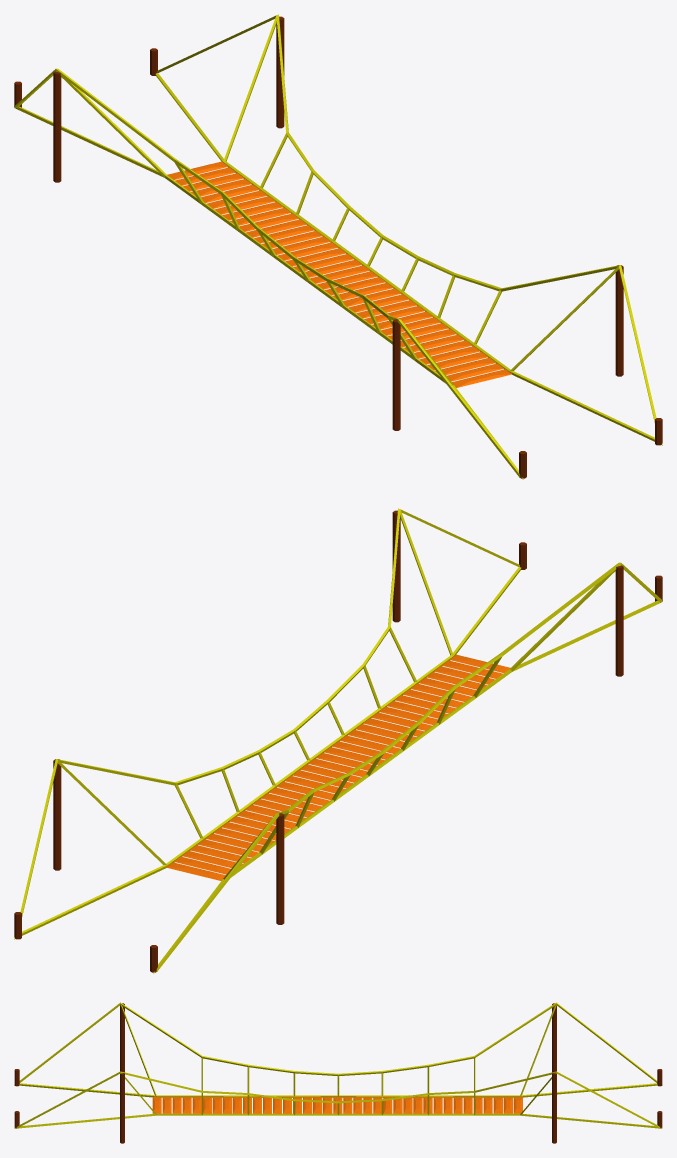
Rendered from bridge2.obj.
3 views of the same model, one above another, from view 1: azimuth 30°, elevation 25°; view 2: azimuth 150°, elevation 25°; view 3: azimuth 270°, elevation 25° (orthographic). The views are drawn at different scales.
Visible parts, largest first — view 1: Plane, Plane.001; view 2: Plane, Plane.001; view 3: Plane.001, Plane.
Part boxes in pixels (x1,y1,x2,y2): Plane: (14,16,662,478); Plane.001: (14,14,662,479); Plane: (14,510,662,972); Plane.001: (14,508,662,973); Plane.001: (14,1002,662,1128); Plane: (14,1003,662,1143).
Size of the model in its own units: 67.24 by 31.27 by 259.
2 materials, 2 textured.
